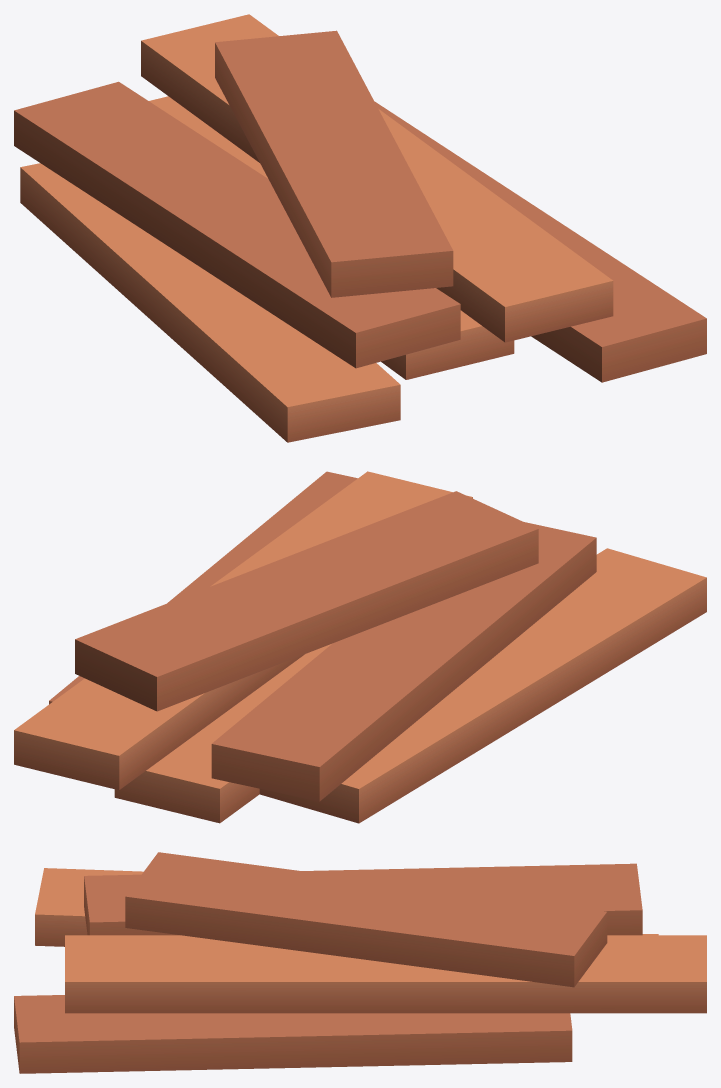
The model's file is planks.glb.
The picture shows the model from 3 angles, top to bottom: view 1: azimuth 30°, elevation 25°; view 2: azimuth 150°, elevation 25°; view 3: azimuth 270°, elevation 25°; orthographic projection. The views are drawn at different scales.
Visible parts, largest first — view 1: resource-planks; view 2: resource-planks; view 3: resource-planks.
Part boxes in pixels (<box>): resource-planks: <box>14,14,706,442</box>; resource-planks: <box>14,471,706,823</box>; resource-planks: <box>14,852,706,1073</box>.
Size of the model in its own units: 0.3729 by 0.0936 by 0.626.
Materials: 1 (1 with a texture image).
